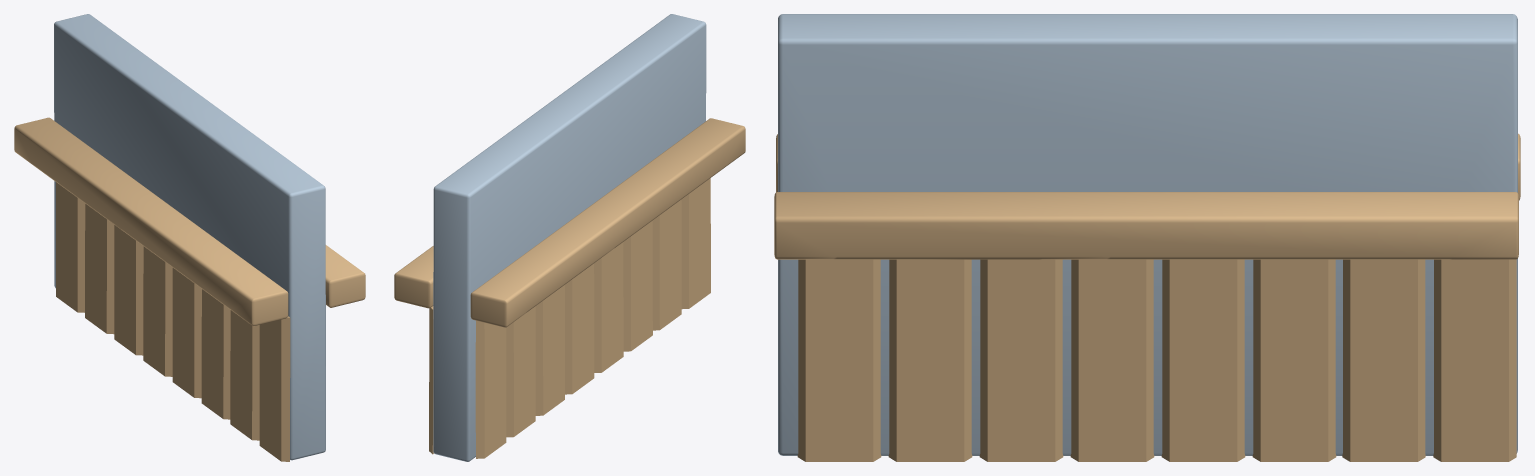
Rendered from kısa_iç_duvar.fbx.
The picture shows the model from 3 angles, left to right: view 1: azimuth 30°, elevation 25°; view 2: azimuth 150°, elevation 25°; view 3: azimuth 270°, elevation 25°; orthographic projection. The views are drawn at different scales.
Parts seen in each view (by area): view 1: Cube.148, Cube.150, Cube.149, Cube.151; view 2: Cube.148, Cube.150, Cube.149, Cube.151, Cube.152; view 3: Cube.148, Cube.152, Cube.151.
Part boxes in pixels (x1,y1,x2,y2): Cube.148: (54,14,325,460); Cube.150: (56,182,290,461); Cube.149: (14,117,288,325); Cube.151: (325,245,365,307); Cube.148: (433,14,706,461); Cube.150: (475,178,710,458); Cube.149: (470,118,745,327); Cube.151: (394,246,433,308); Cube.152: (429,306,433,454); Cube.148: (778,14,1517,455); Cube.152: (797,259,1516,461); Cube.151: (774,192,1518,259).
Bounding box in the file's own units: 239 × 538 × 872.
